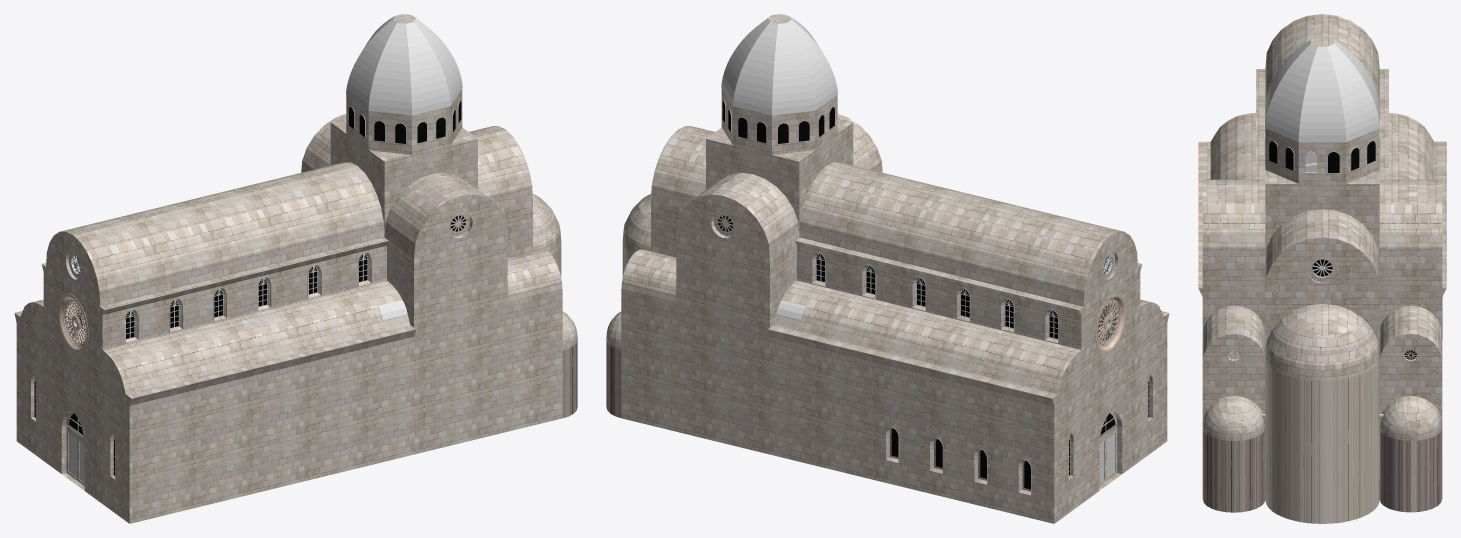
The model's file is Sibenik.fbx.
3 views of the same model, side by side, from view 1: azimuth 30°, elevation 25°; view 2: azimuth 150°, elevation 25°; view 3: azimuth 270°, elevation 25° (orthographic). The views are drawn at different scales.
Parts seen in each view (by area): view 1: Sibenik; view 2: Sibenik; view 3: Sibenik.
Boxes of the visible parts, box(x1,y1,x2,y2) form: Sibenik: box(14, 14, 577, 523); Sibenik: box(606, 14, 1169, 523); Sibenik: box(1198, 14, 1446, 523).
Size of the model in its own units: 2014 by 1531 by 850.
